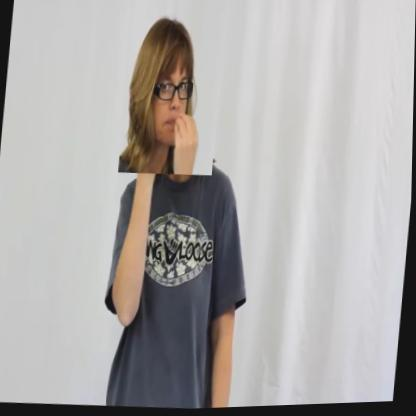Food: (118, 0, 228, 179)
